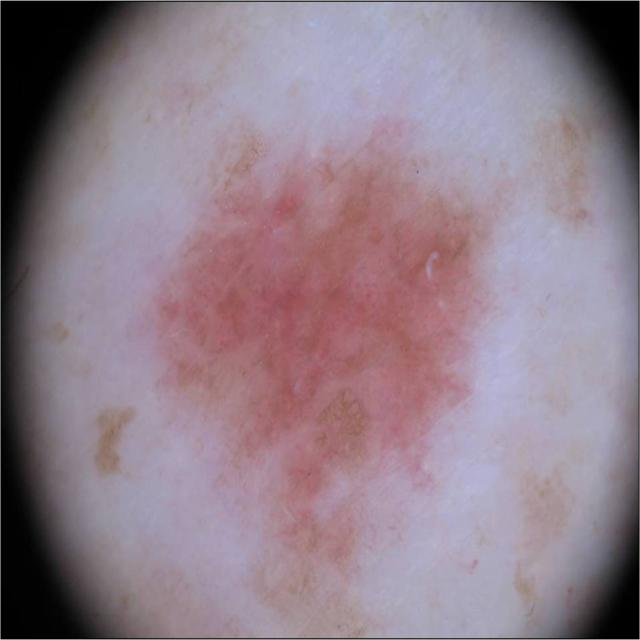Melanoma: (151, 110, 492, 608)
